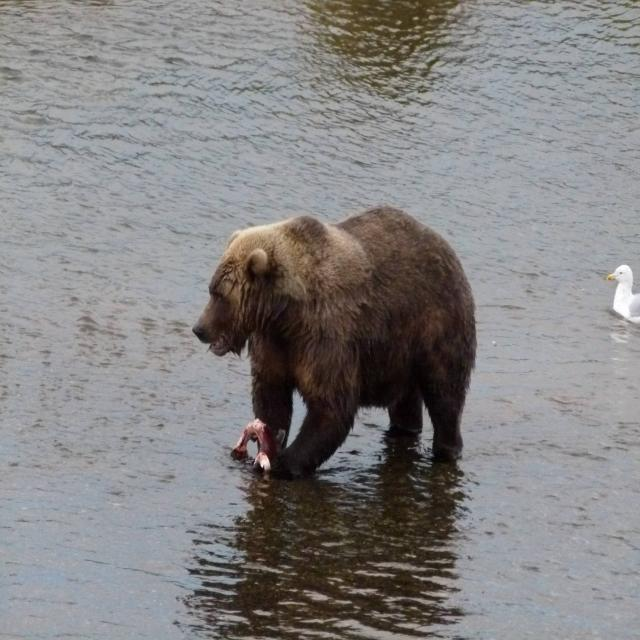bear face: (192, 207, 478, 463)
